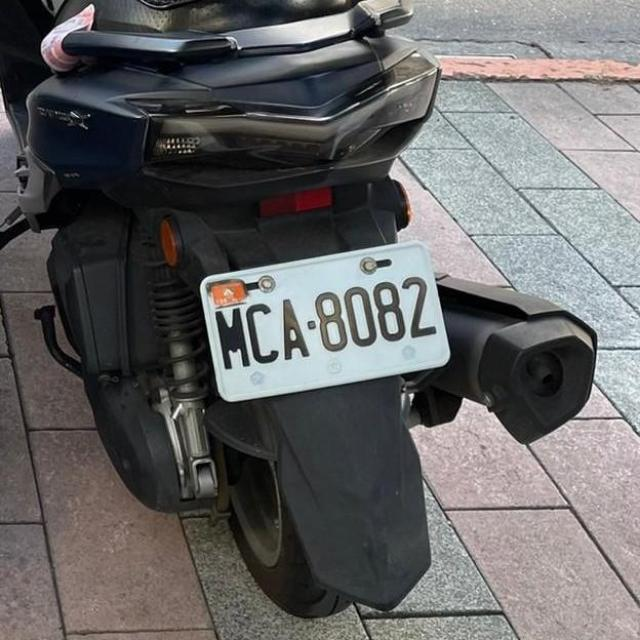W: (196, 235, 453, 405)
